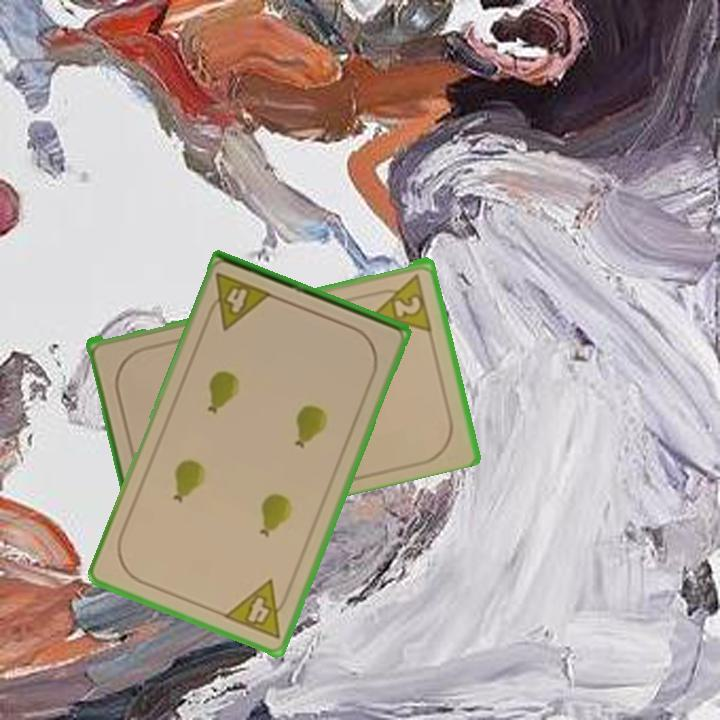2p: (366, 268, 435, 333)
4p: (220, 576, 295, 642), (202, 269, 275, 333)
